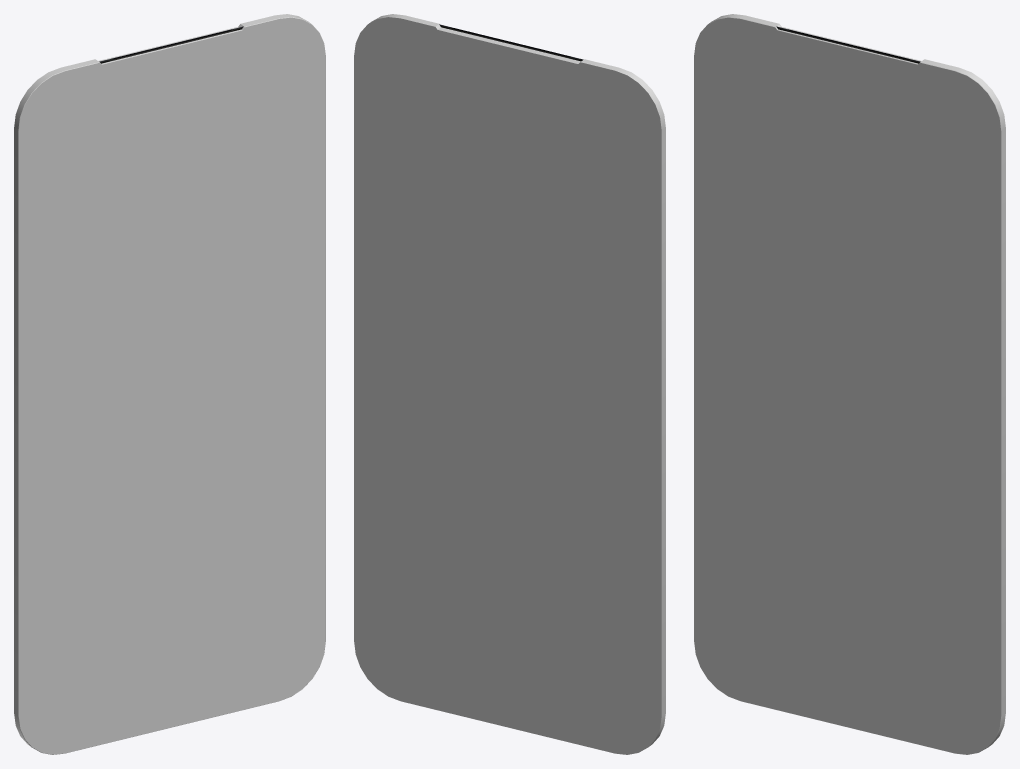
The model's file is TomatoPhoneScreen.glb.
The picture shows the model from 3 angles, left to right: view 1: azimuth 30°, elevation 25°; view 2: azimuth 150°, elevation 25°; view 3: azimuth 330°, elevation 25°; orthographic projection.
Parts seen in each view (by area): view 1: Glass_Screen; view 2: Glass_Screen; view 3: Glass_Screen.
Boxes of the visible parts, left/top/right/bottom form: Glass_Screen: left=14, top=14, right=325, bottom=754; Glass_Screen: left=354, top=14, right=665, bottom=754; Glass_Screen: left=694, top=14, right=1005, bottom=754.
Size of the model in its own units: 0.7274 by 1.54 by 0.0179.
Materials: 2 (1 with a texture image).
